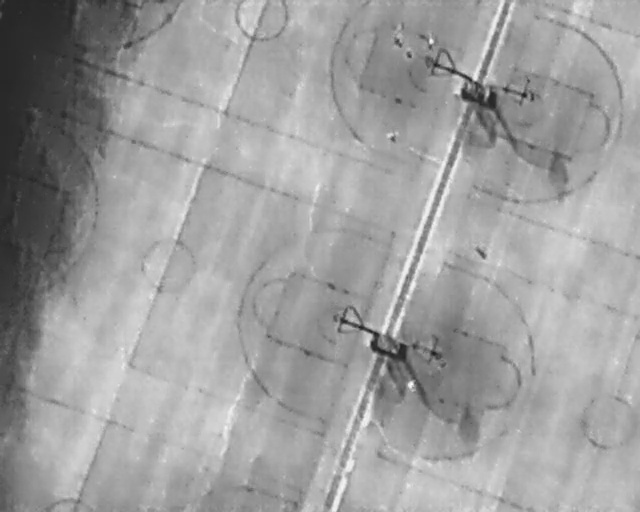Person: (391, 32, 403, 48), (427, 32, 436, 52), (387, 131, 400, 143), (407, 376, 415, 393), (396, 21, 405, 35), (405, 45, 412, 58)
